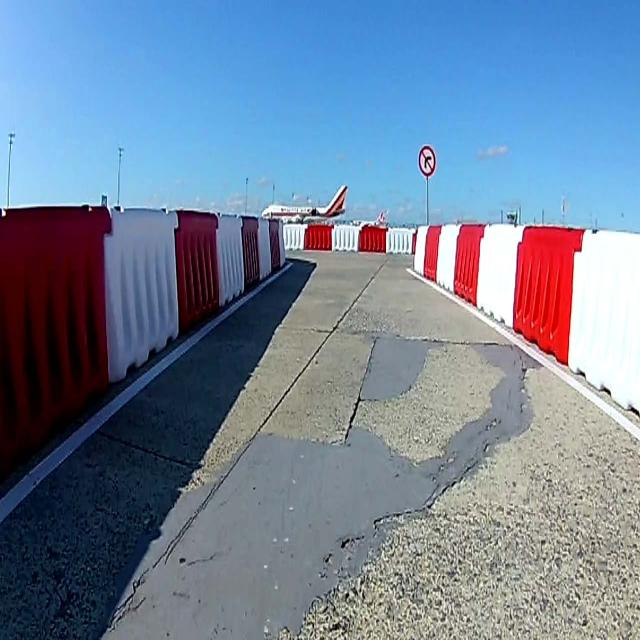sagadonulmez: (418, 147, 437, 177)
